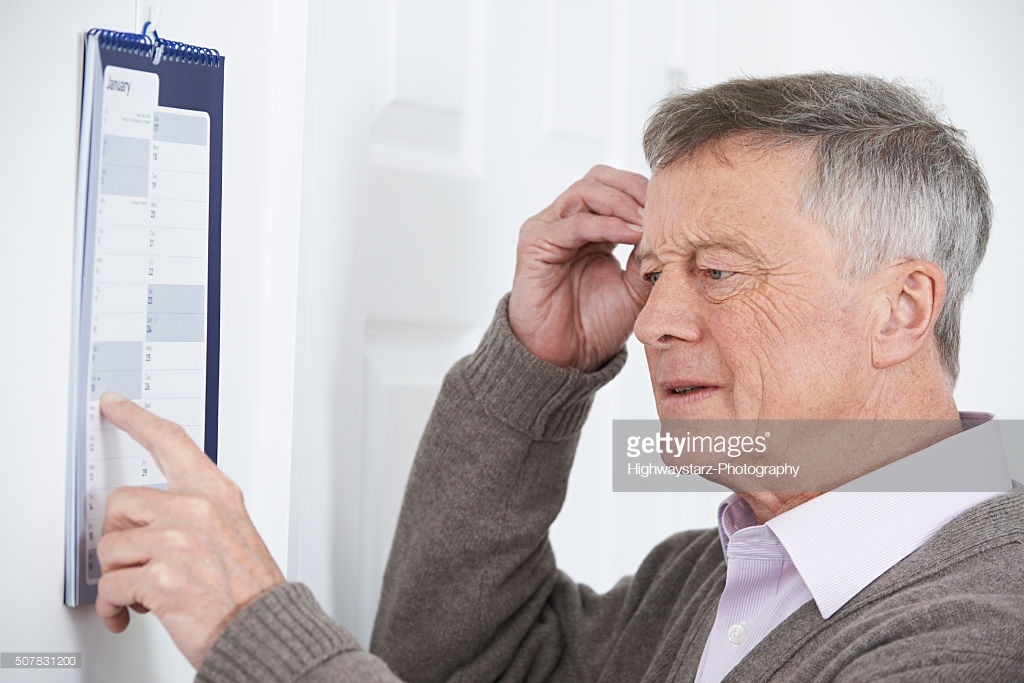confused: (610, 183, 810, 466)
